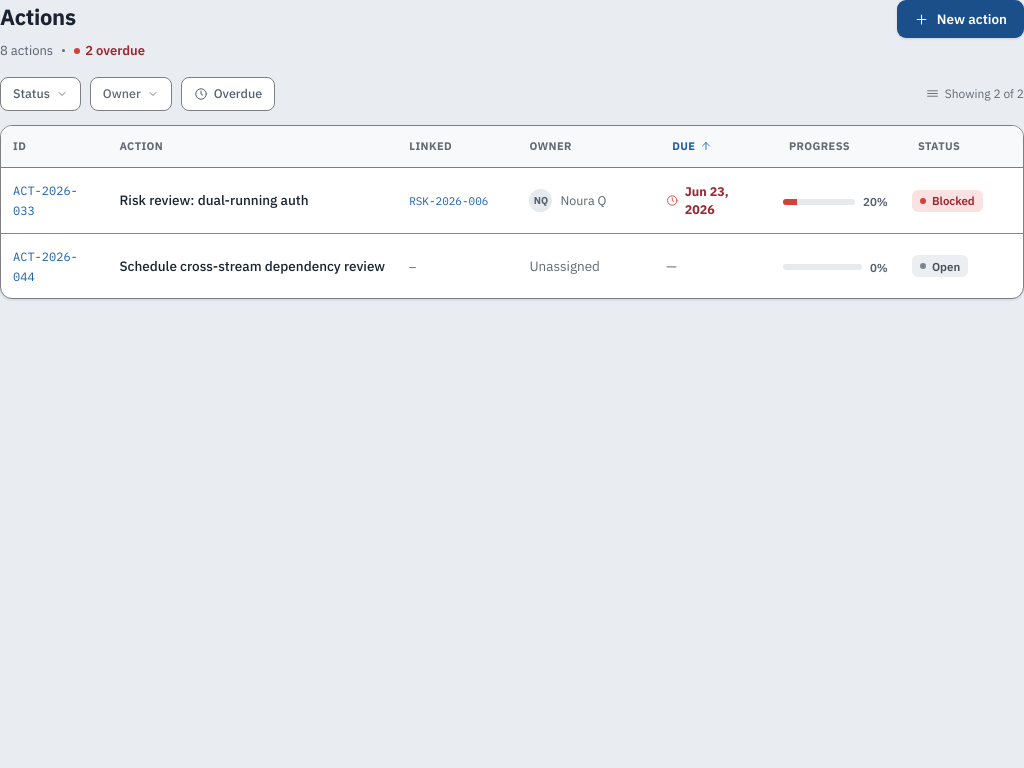
Test case: ActionsRegister (P8b) › closes the source chooser without picking anything
Step 1. Click the button "New action" → {"x": 960, "y": 19}, box [897,0,1023,38]
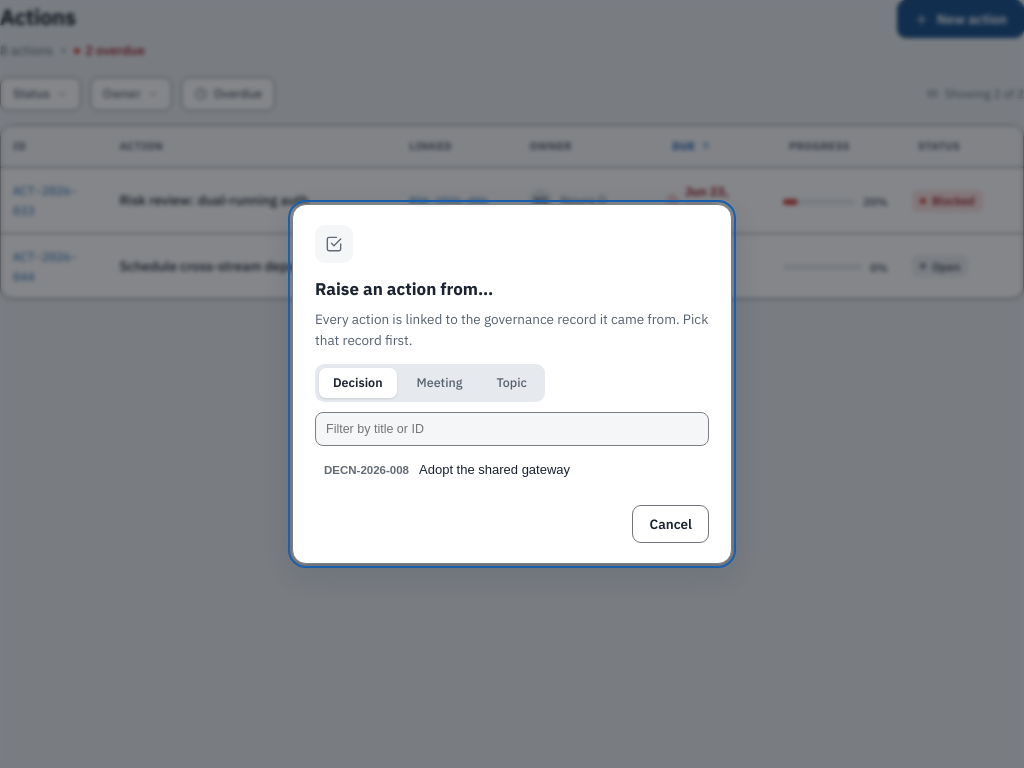
Expected: the dialog is shown, [292,204,732,564]
Step 2. Click the button "Cancel" → {"x": 671, "y": 524}, box [632,505,709,543]
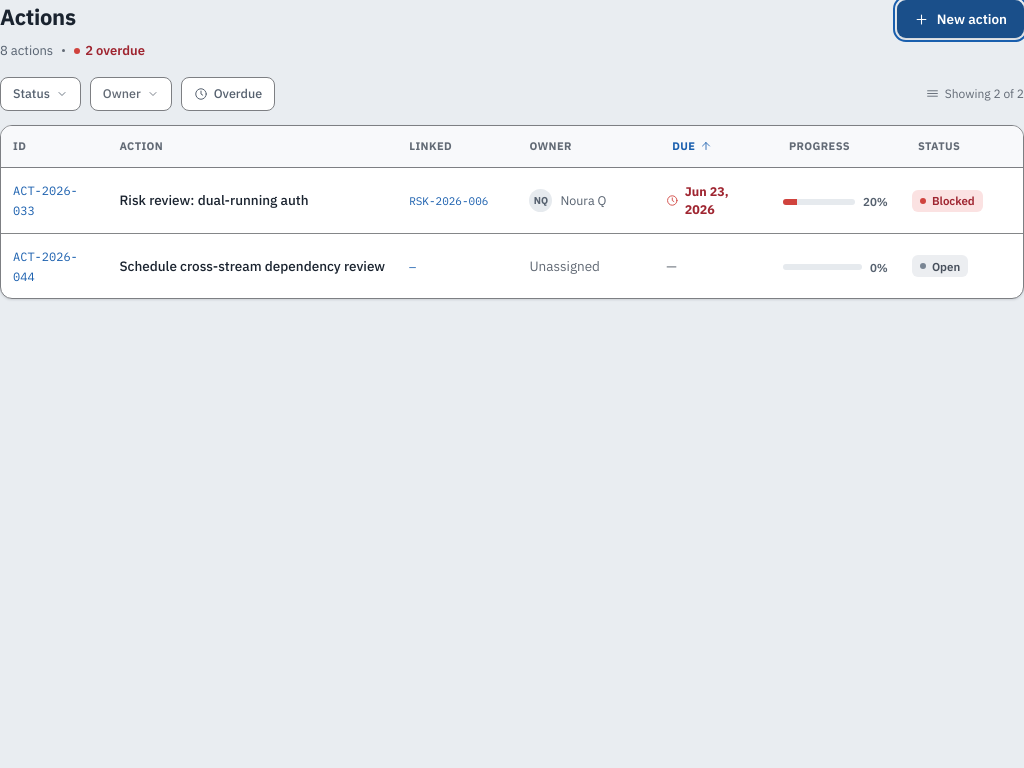
Expected: the dialog is gone
